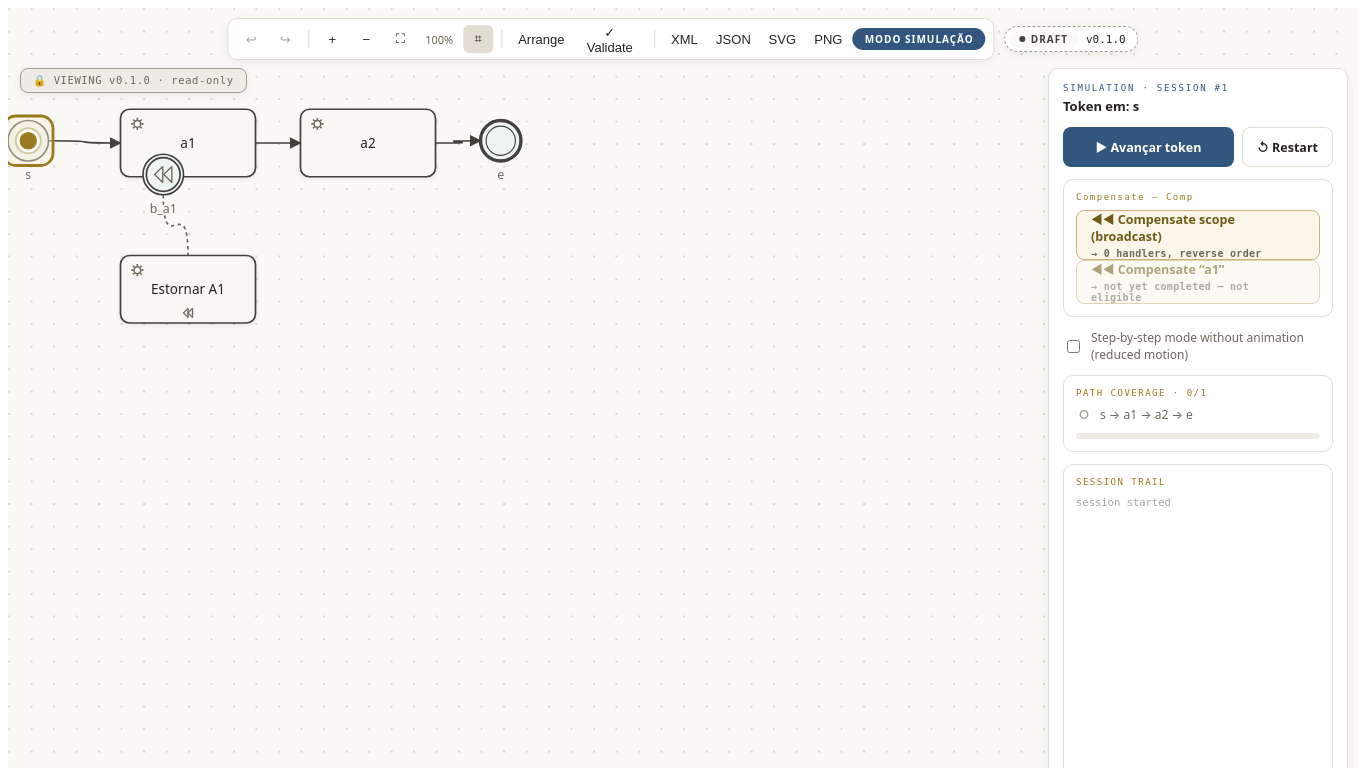
Scenario: compensação na simulação (Handoff 19 §6d) › o card «Compensar» mostra broadcast com a CONTAGEM + a específica; incompleta não aparece
What coordinates should you click on to do the following:
click the button "▶ Avançar token"
I would click on:
 (1148, 147)
Its box is [1063, 127, 1234, 167].
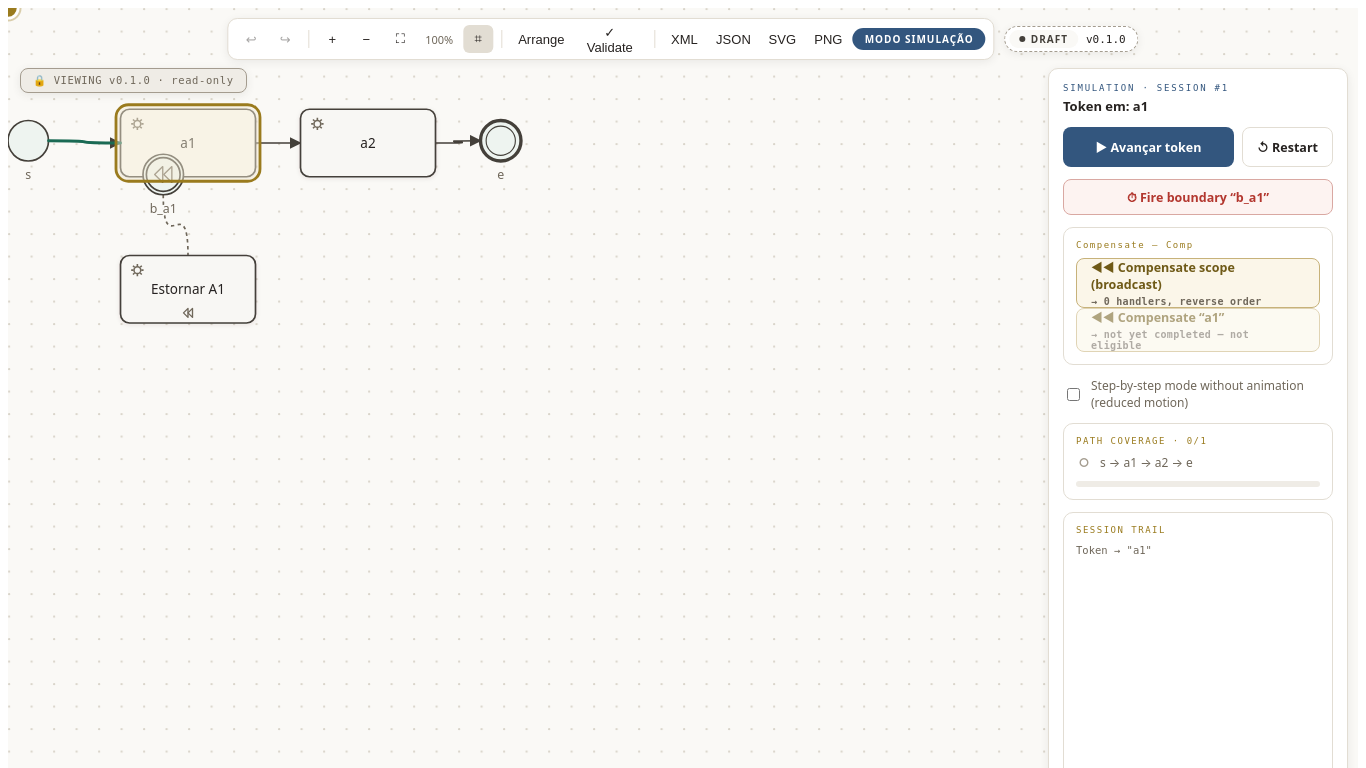
What coordinates should you click on to do the following:
click the button "▶ Avançar token"
I would click on:
 (1148, 147)
Its box is [1063, 127, 1234, 167].
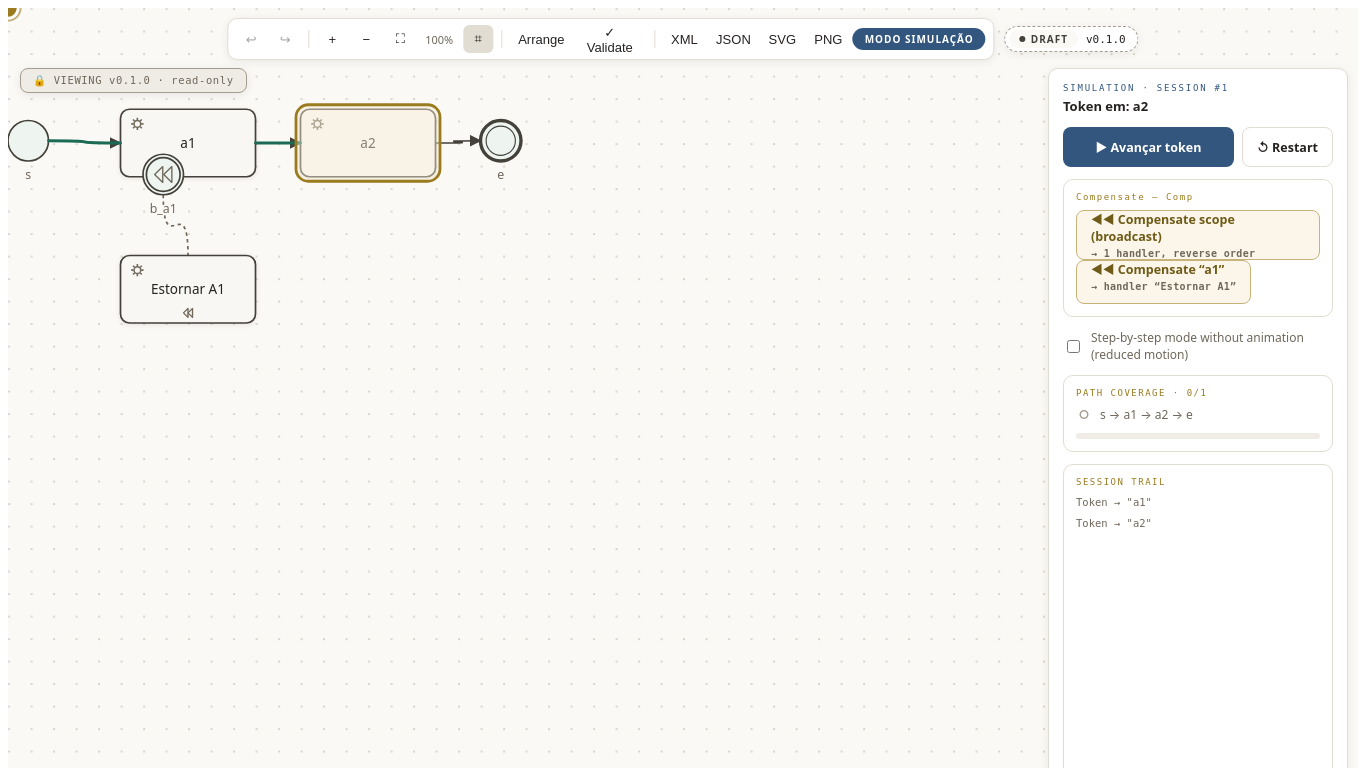
Check: the element that starts with "Compensate — Comp" is shown, box [1063, 179, 1333, 317]
Check: the button "◀◀ Compensate scope (broadcast) → 1 handler, reverse order" is shown, box [1076, 210, 1320, 260]
Check: the button "◀◀ Compensate “a1” → handler “Estornar A1”" is shown, box [1076, 260, 1251, 304]
